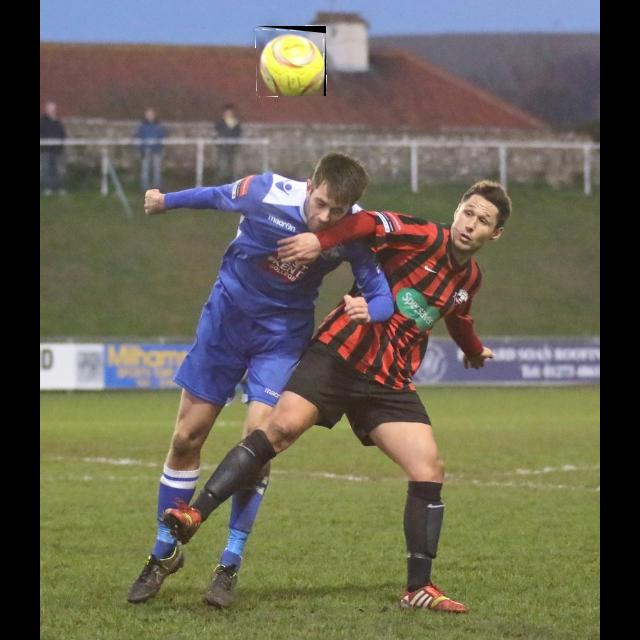Football: (256, 26, 326, 96)
